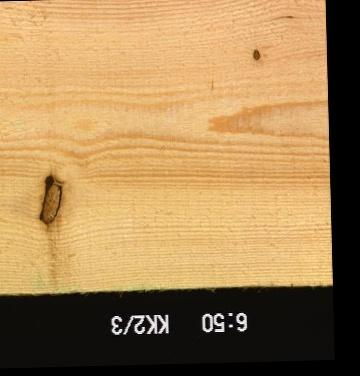dry_knot: (250, 47, 259, 62)
